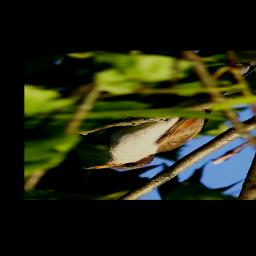Cuckoo: (79, 59, 256, 173)
